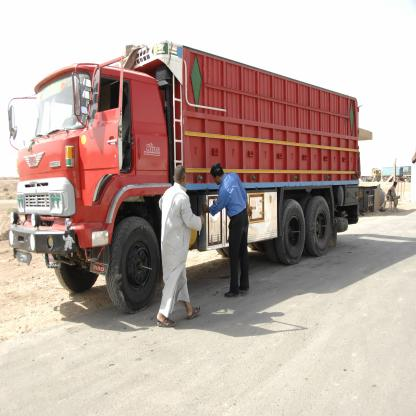dump_truck: (9, 34, 378, 302)
person: (195, 150, 271, 309), (146, 156, 212, 335)
